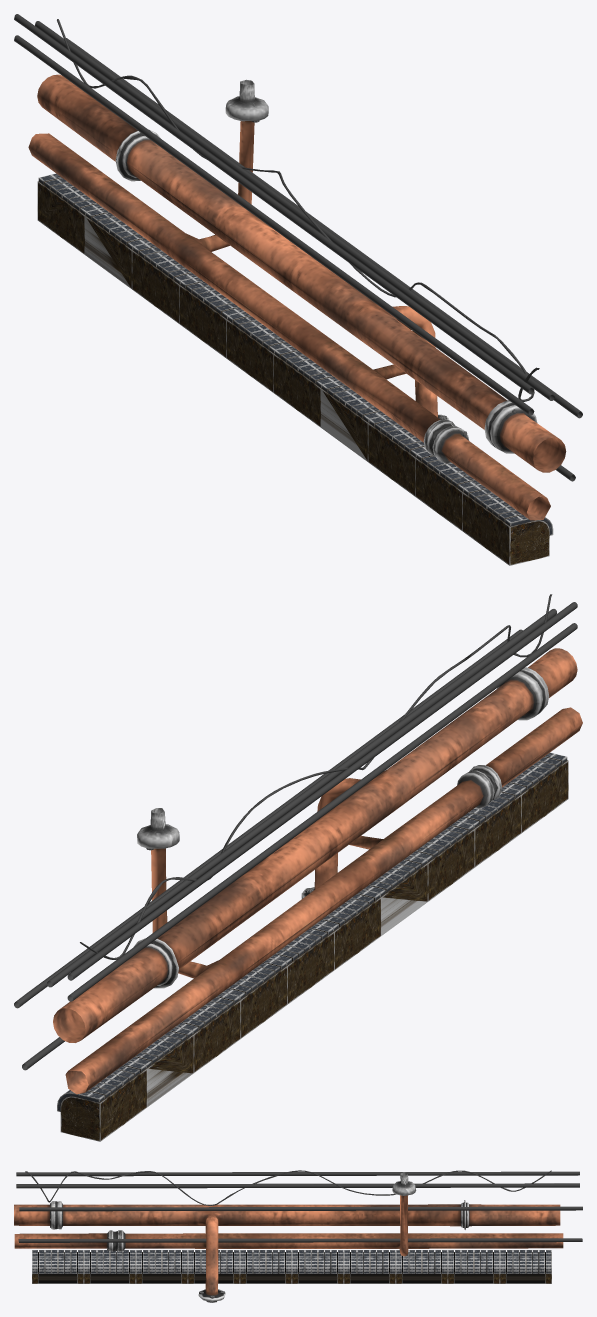
Rendered from copper_pipe_far.glb.
3 renders of one model, top to bottom at view 1: azimuth 30°, elevation 25°; view 2: azimuth 150°, elevation 25°; view 3: azimuth 270°, elevation 25°, orthographic. The views are drawn at different scales.
Parts seen in each view (by area): view 1: tubos_canos_6, MAQUINA1_5, BezierCurve.001_1, BezierCurve.002_2, BezierCurve.004_4, BezierCurve.003_3, BezierCurve_0; view 2: tubos_canos_6, MAQUINA1_5, BezierCurve.001_1, BezierCurve.002_2, BezierCurve.004_4, BezierCurve.003_3, BezierCurve_0; view 3: tubos_canos_6, MAQUINA1_5, BezierCurve.005_8, BezierCurve.003_3, BezierCurve.004_4, BezierCurve.001_1, BezierCurve_0, BezierCurve.002_2.
Part boxes in pixels (bbox=[...]): tubos_canos_6: bbox=[28, 74, 566, 520]; MAQUINA1_5: bbox=[37, 173, 553, 565]; BezierCurve.001_1: bbox=[14, 14, 534, 394]; BezierCurve.002_2: bbox=[14, 35, 534, 415]; BezierCurve.004_4: bbox=[35, 21, 554, 400]; BezierCurve.003_3: bbox=[66, 38, 582, 418]; BezierCurve_0: bbox=[57, 19, 539, 401]; tubos_canos_6: bbox=[53, 648, 582, 1094]; MAQUINA1_5: bbox=[57, 752, 568, 1141]; BezierCurve.001_1: bbox=[67, 602, 577, 980]; BezierCurve.002_2: bbox=[67, 623, 577, 1001]; BezierCurve.004_4: bbox=[47, 609, 556, 987]; BezierCurve.003_3: bbox=[14, 629, 522, 1008]; BezierCurve_0: bbox=[80, 594, 552, 959]; tubos_canos_6: bbox=[14, 1172, 563, 1302]; MAQUINA1_5: bbox=[32, 1250, 551, 1283]; BezierCurve.005_8: bbox=[18, 1238, 582, 1242]; BezierCurve.003_3: bbox=[19, 1206, 582, 1211]; BezierCurve.004_4: bbox=[16, 1183, 579, 1188]; BezierCurve.001_1: bbox=[16, 1171, 579, 1176]; BezierCurve_0: bbox=[25, 1170, 551, 1205]; BezierCurve.002_2: bbox=[16, 1183, 579, 1184].
Size of the model in its own units: 5.78 by 11.92 by 48.79.
4 materials, 3 textured.
